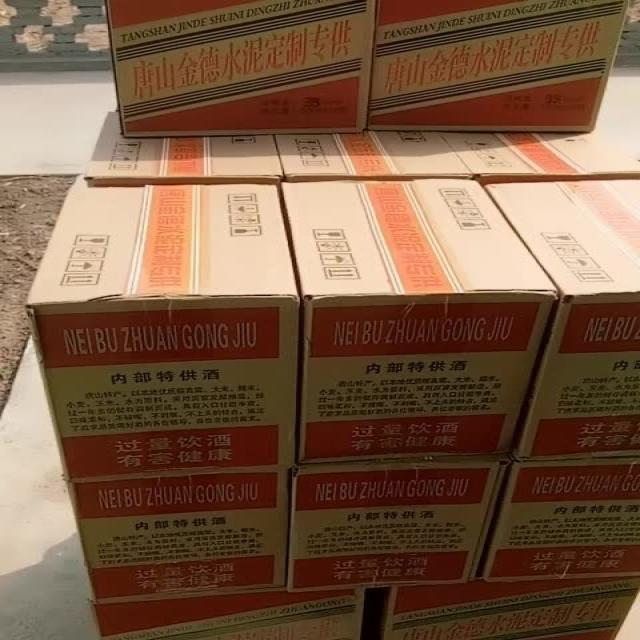box: (23, 183, 299, 480), (284, 178, 562, 465), (479, 170, 639, 462), (108, 2, 376, 137), (367, 2, 629, 132), (66, 467, 293, 602), (286, 457, 509, 593), (473, 455, 639, 582), (386, 577, 639, 637), (97, 586, 371, 639), (84, 111, 281, 184), (274, 128, 474, 180), (449, 127, 639, 180)
